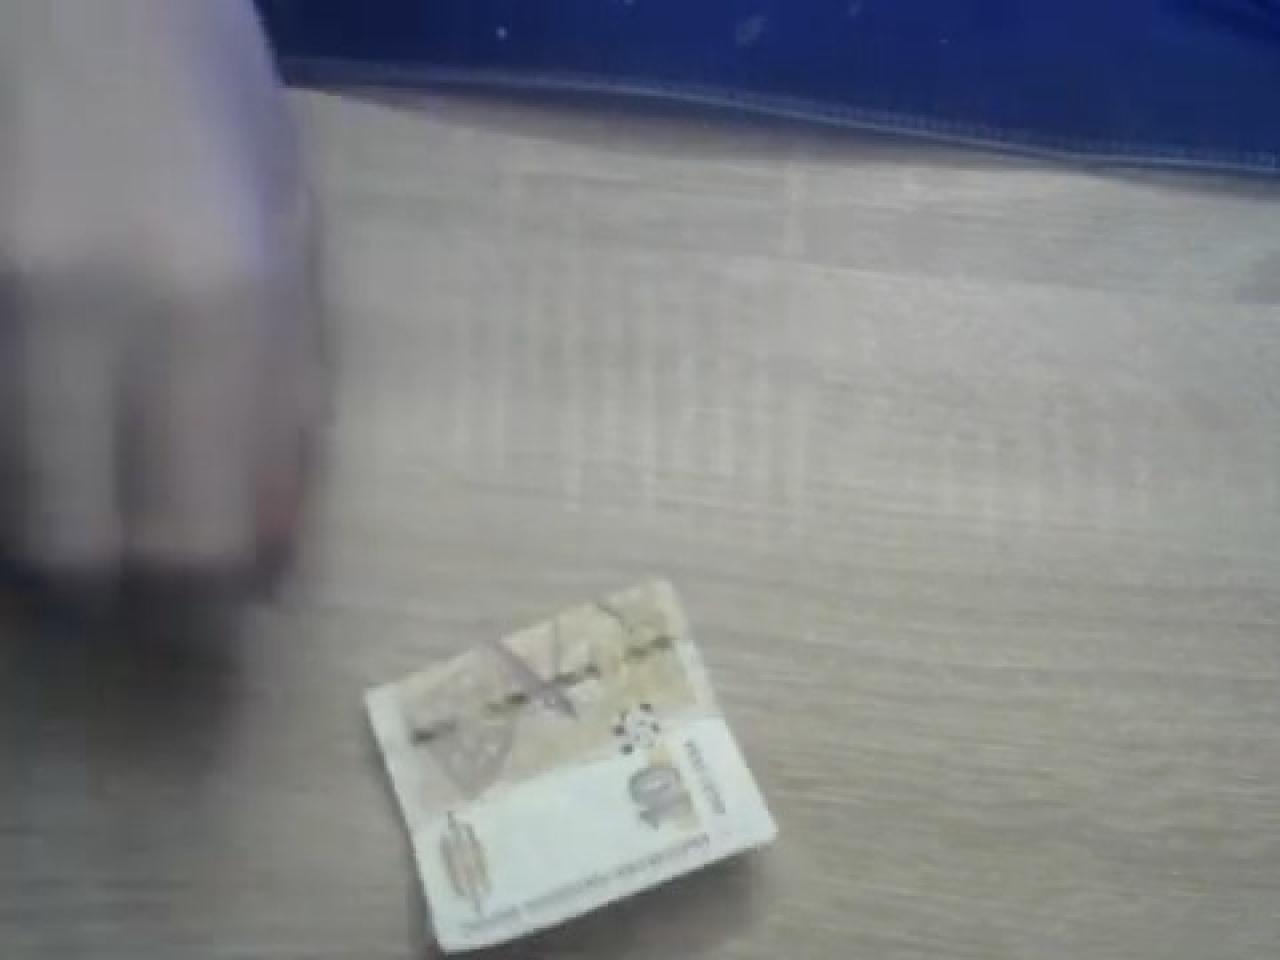10leva: (360, 571, 779, 955)
